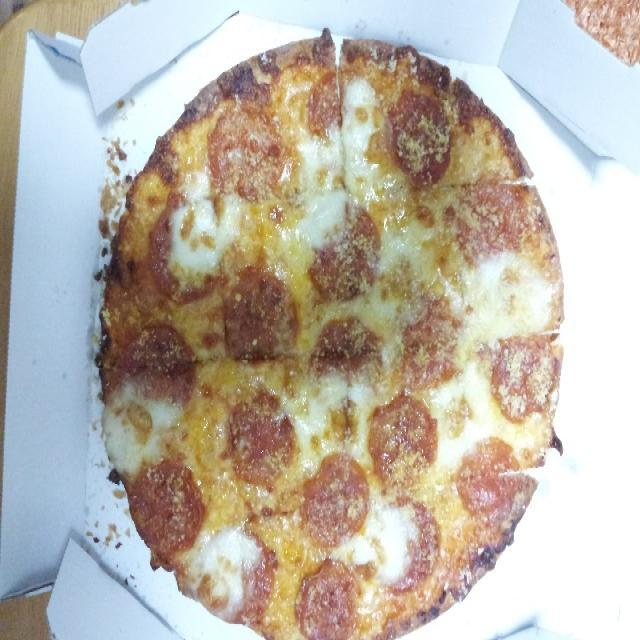Pizza: (79, 23, 582, 640)
